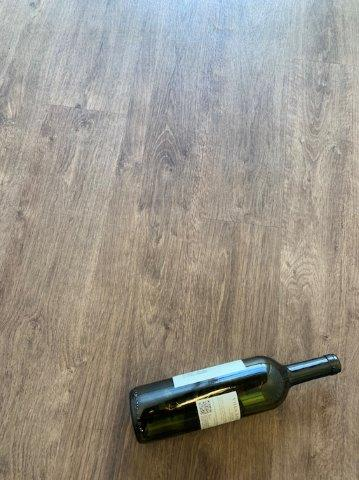botolkaca: (129, 354, 342, 445)
